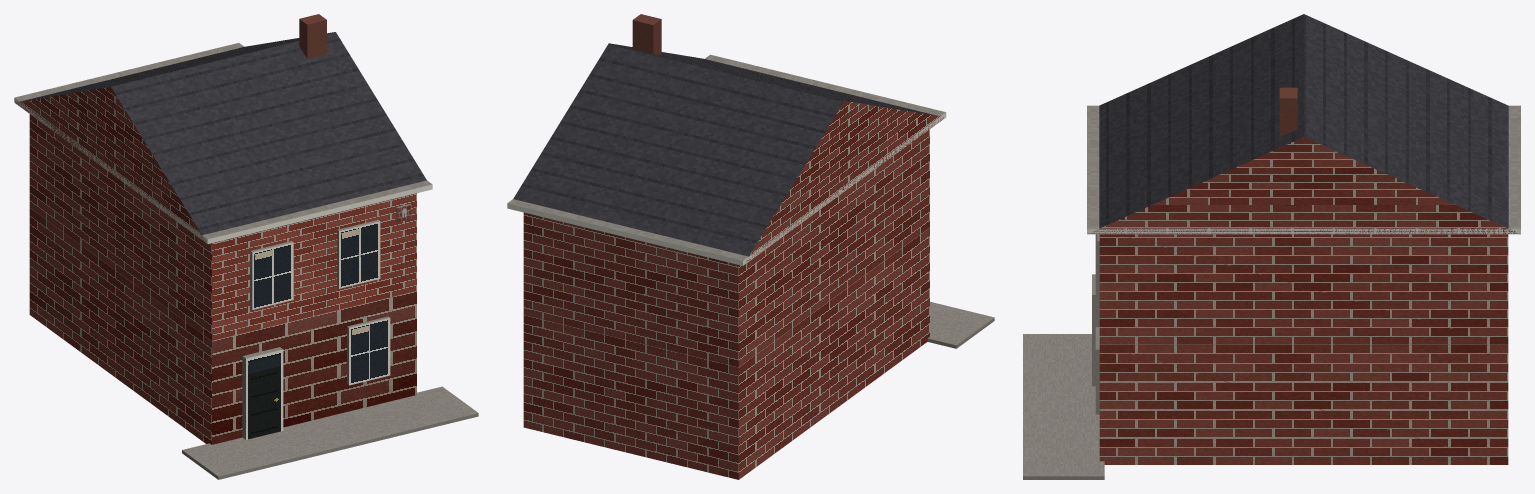
File: building_terrace_redbrick.glb
3 views of the same model, side by side, from view 1: azimuth 30°, elevation 25°; view 2: azimuth 150°, elevation 25°; view 3: azimuth 270°, elevation 25° (orthographic). The views are drawn at different scales.
Parts seen in each view (by area): view 1: Building_Terrace_redbrick; view 2: Building_Terrace_redbrick; view 3: Building_Terrace_redbrick.
Boxes of the visible parts, bbox=[...] form: Building_Terrace_redbrick: bbox=[14, 14, 478, 479]; Building_Terrace_redbrick: bbox=[507, 14, 994, 479]; Building_Terrace_redbrick: bbox=[1023, 14, 1520, 479].
Size of the model in its own units: 6.6 by 7.8 by 9.75.
Materials: 1 (1 with a texture image).
